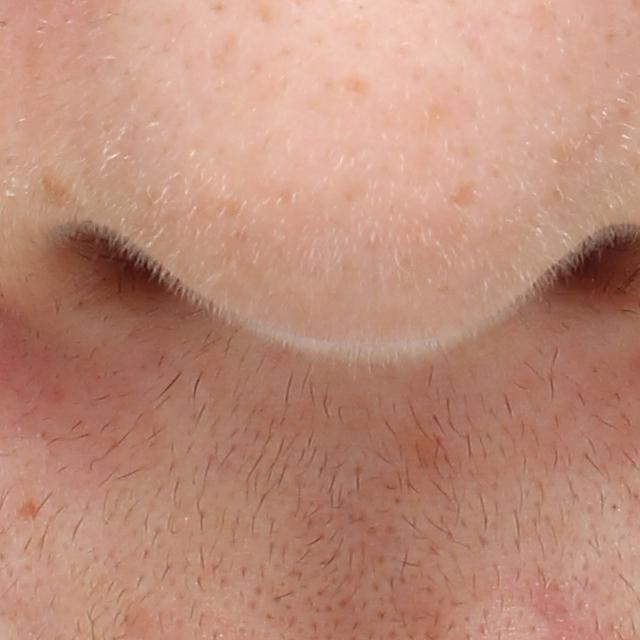melasma: (39, 173, 97, 220)
